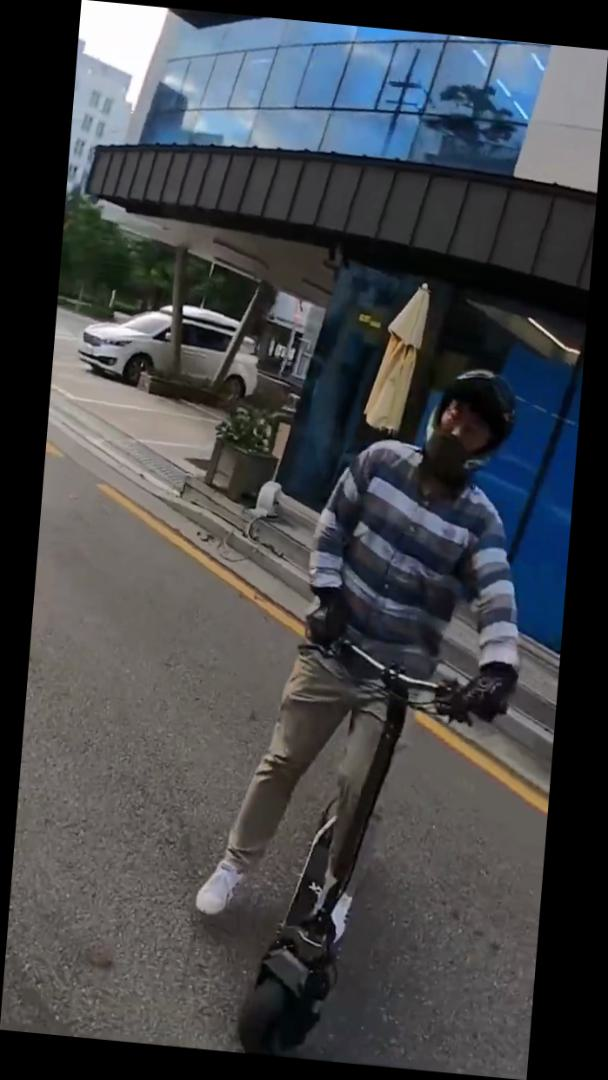helmet: (183, 341, 542, 1076)
